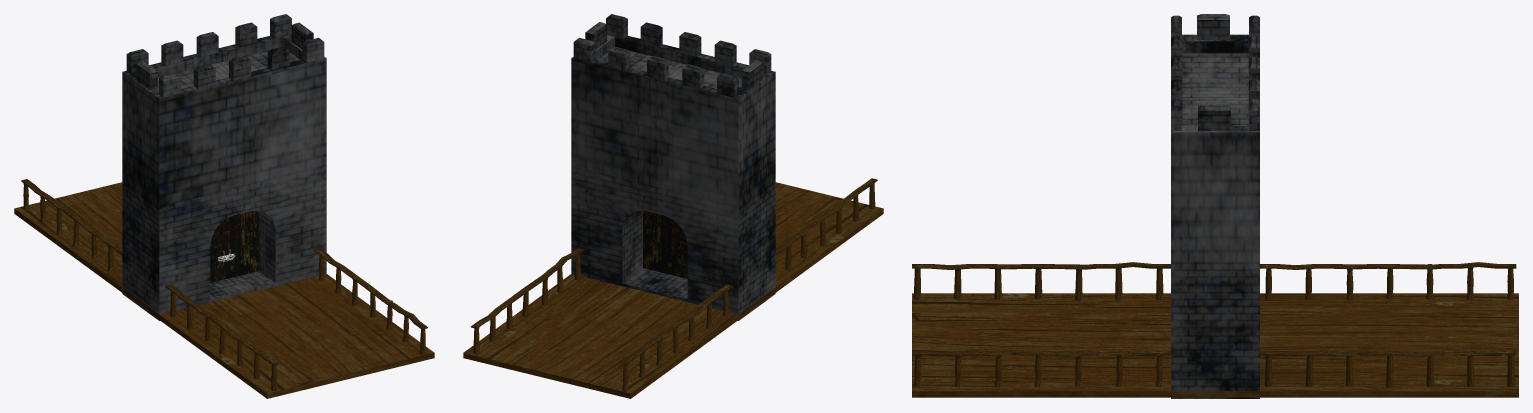
File: SM_Bridge.fbx
The picture shows the model from 3 angles, left to right: view 1: azimuth 30°, elevation 25°; view 2: azimuth 150°, elevation 25°; view 3: azimuth 270°, elevation 25°; orthographic projection. The views are drawn at different scales.
Visible parts, largest first — view 1: Cube.060, Cube.062; view 2: Cube.060, Cube.062; view 3: Cube.060.
Boxes of the visible parts, x1,y1,x2,y2 form: Cube.060: (14,14,434,398); Cube.062: (210,211,259,282); Cube.060: (463,14,883,398); Cube.062: (643,211,687,278); Cube.060: (912,14,1518,398).
Size of the model in its own units: 4271 by 5896 by 11177.
